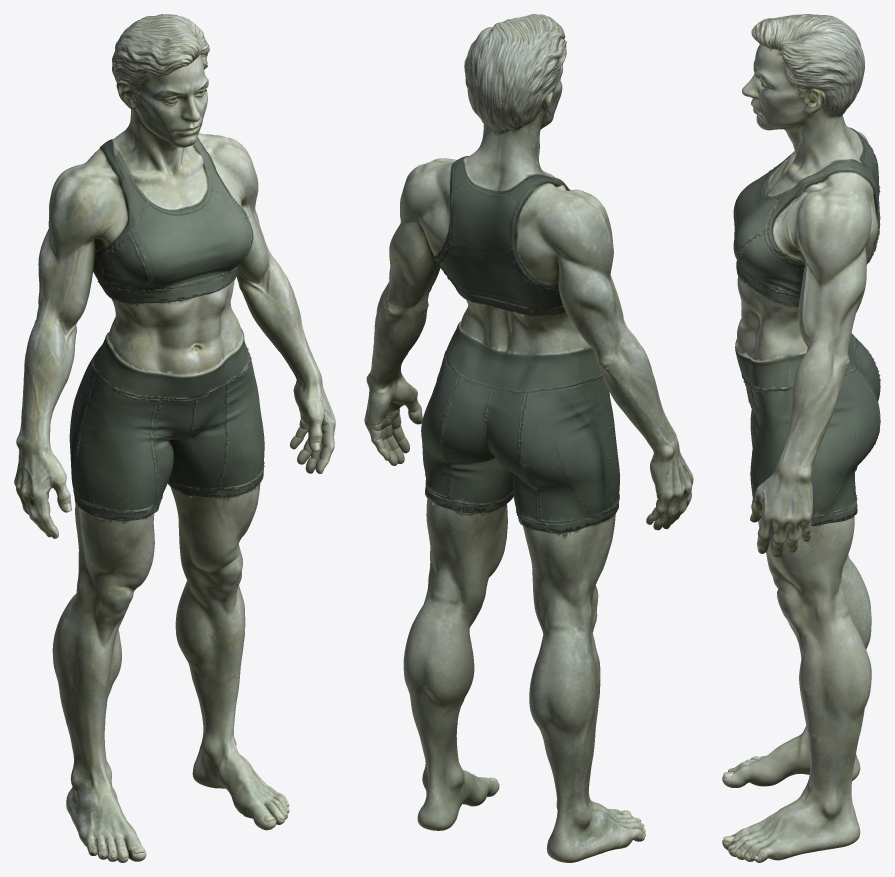
File: adult-female-v4.glb
The picture shows the model from 3 angles, left to right: view 1: azimuth 30°, elevation 25°; view 2: azimuth 150°, elevation 25°; view 3: azimuth 270°, elevation 25°; orthographic projection. The views are drawn at different scales.
Parts seen in each view (by area): view 1: TeachingBody; view 2: TeachingBody; view 3: TeachingBody.
Boxes of the visible parts, <box> form: TeachingBody: <box>14,14,335,862</box>; TeachingBody: <box>364,14,693,862</box>; TeachingBody: <box>722,14,880,862</box>.
Bounding box in the file's own units: 0.6957 × 1.7 × 0.3043.
Materials: 1 (1 with a texture image).
